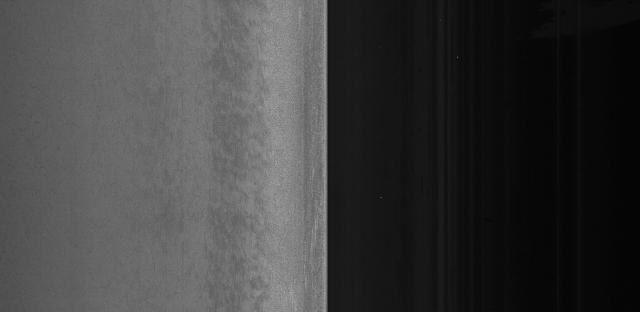silk_spot: (211, 128, 282, 223)
